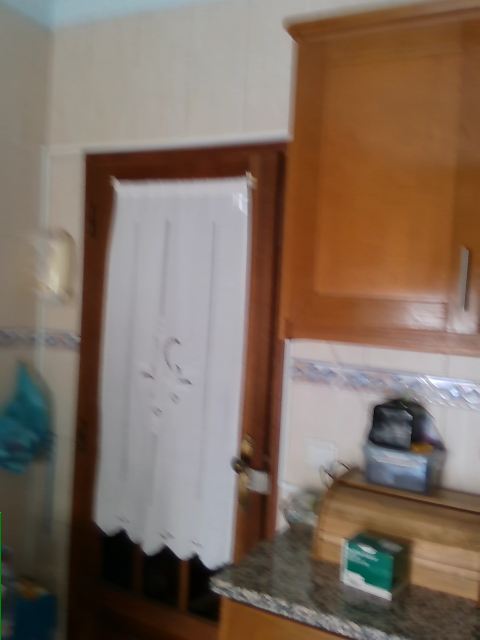closed: (64, 140, 288, 639)
